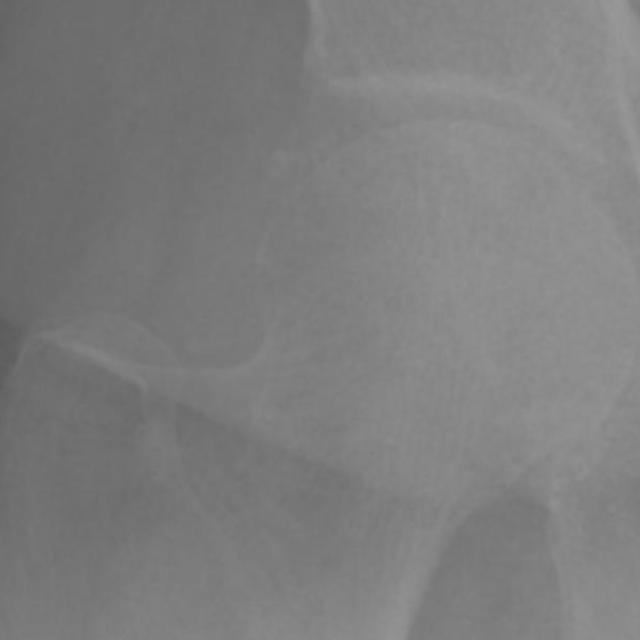Fitted_femural_head: (385, 129, 432, 385)
